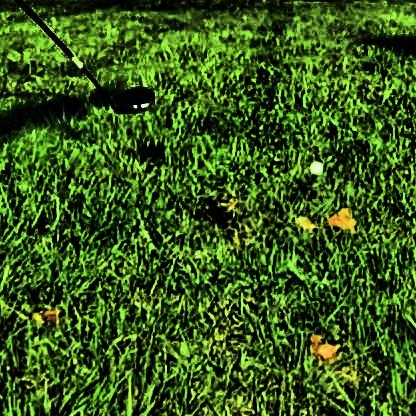golfball: (306, 156, 321, 171)
